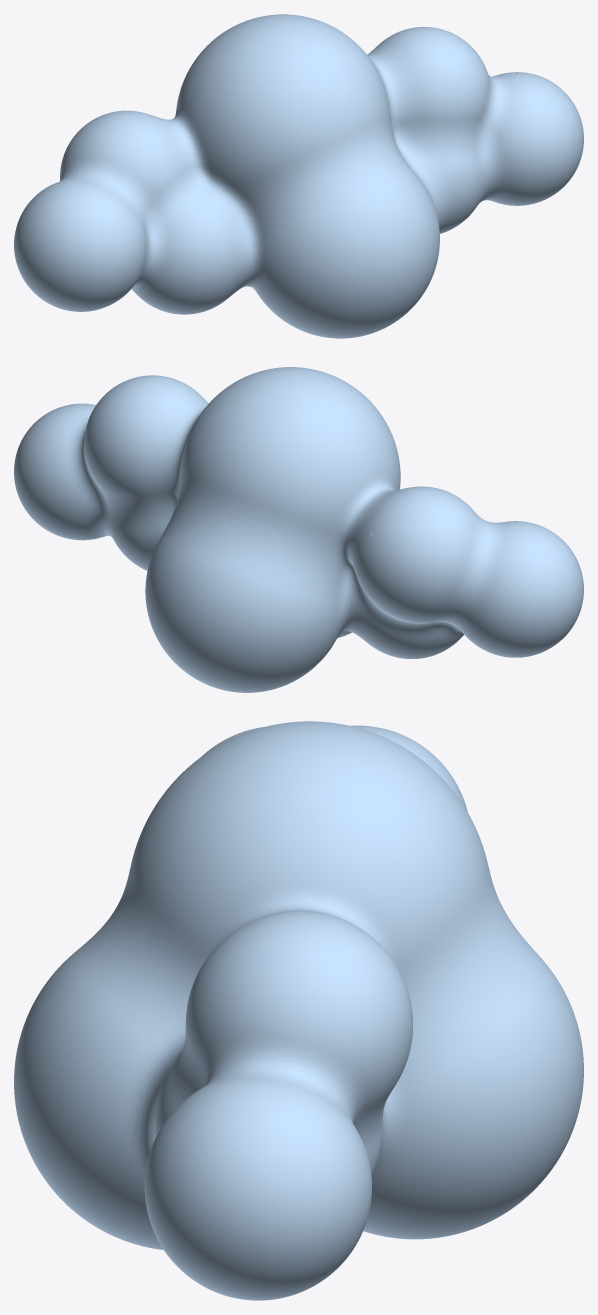
Rendered from awam .fbx.
3 renders of one model, top to bottom at view 1: azimuth 30°, elevation 25°; view 2: azimuth 150°, elevation 25°; view 3: azimuth 270°, elevation 25°, orthographic. The views are drawn at different scales.
Visible parts, largest first — view 1: Mball; view 2: Mball; view 3: Mball.
Part boxes in pixels (bbox=[...]): Mball: bbox=[14, 14, 583, 338]; Mball: bbox=[14, 367, 583, 692]; Mball: bbox=[14, 721, 583, 1300].
Bounding box in the file's own units: 1380 × 682 × 734.
